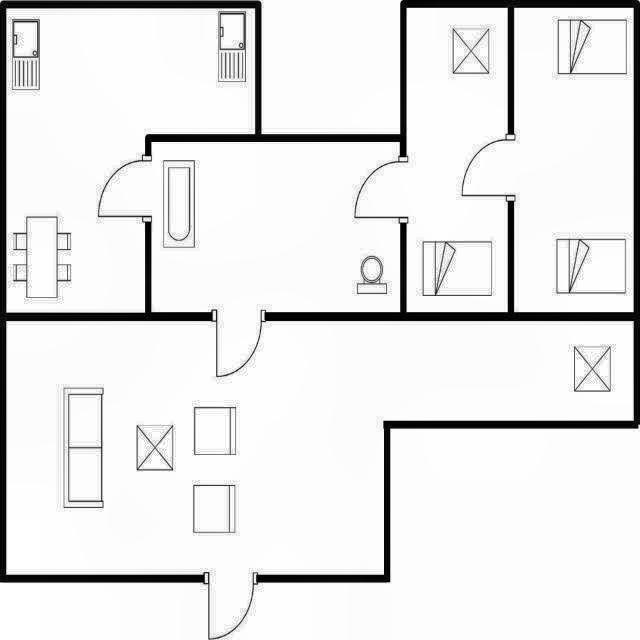room: (6, 321, 634, 575), (6, 8, 255, 313), (151, 142, 400, 313), (514, 8, 634, 312), (406, 7, 508, 312)
